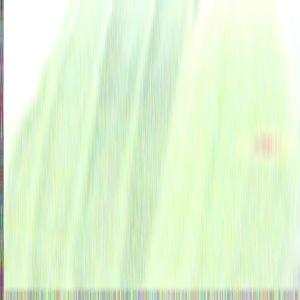Bacterial_Leaf_Blight: (236, 120, 296, 168)
